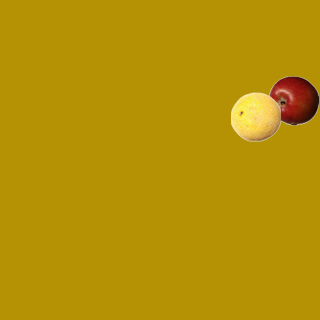Apple Braeburn: (268, 75, 318, 125)
Cantaloupe 1: (230, 91, 280, 141)
